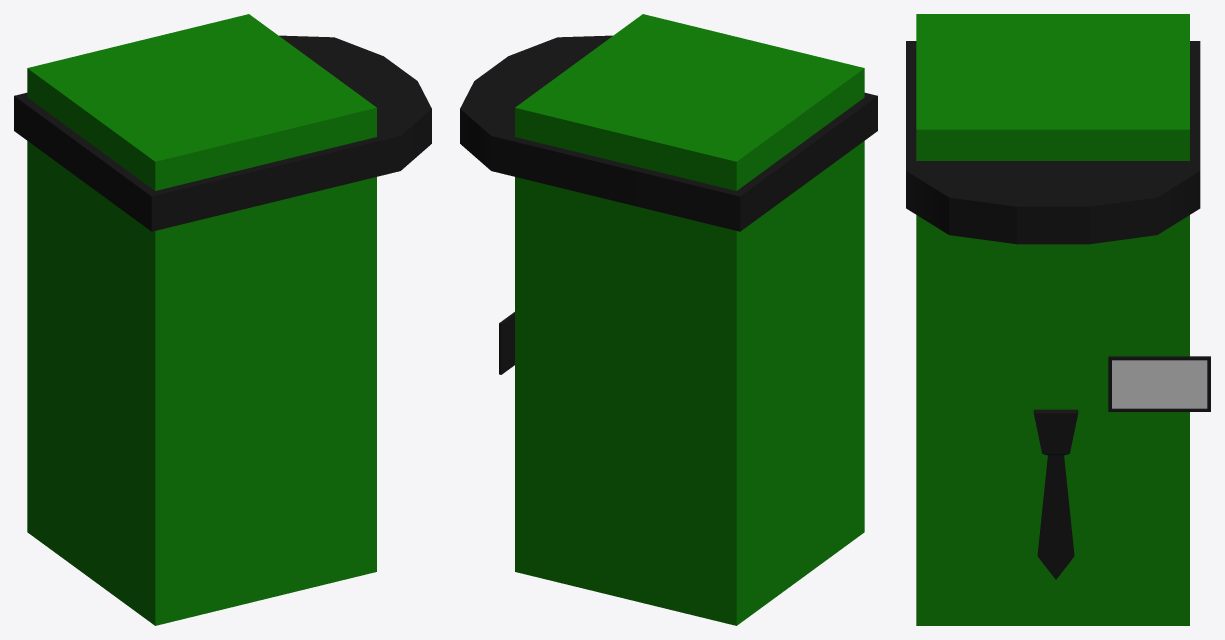
The model's file is StoreClerk.fbx.
The picture shows the model from 3 angles, left to right: view 1: azimuth 30°, elevation 25°; view 2: azimuth 150°, elevation 25°; view 3: azimuth 270°, elevation 25°; orthographic projection. The views are drawn at different scales.
Parts seen in each view (by area): view 1: pasted__pCube1, pCube5; view 2: pasted__pCube1 (×2), pCube5; view 3: pasted__pCube1 (×2), pCube5, pasted__pCube3.
Boxes of the visible parts, x1,y1,x2,y2 form: pasted__pCube1: (27,14,376,625); pCube5: (14,35,431,231); pasted__pCube1 (×2): (499,14,864,625); pCube5: (460,35,877,231); pasted__pCube1 (×2): (916,14,1210,625); pCube5: (906,41,1200,244); pasted__pCube3: (1033,409,1078,579).
Bounding box in the file's own units: 1.43 × 2 × 1.11.
